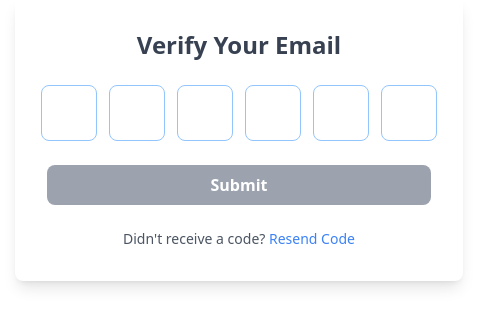
Scenario: EmailVerification Component › resends the verification code successfully
The image size is (479, 327).
Click the button with test id "resend-code-button": [312, 239] box [269,229,355,249]
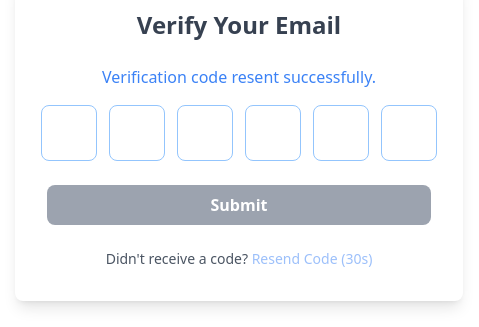
Expected: the text "Verification code resent successfully." is shown, [102,66,376,88]
